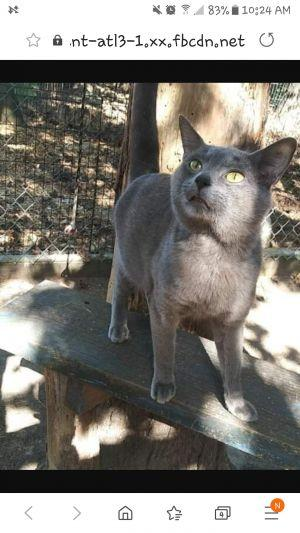rblue: (163, 111, 300, 250)
